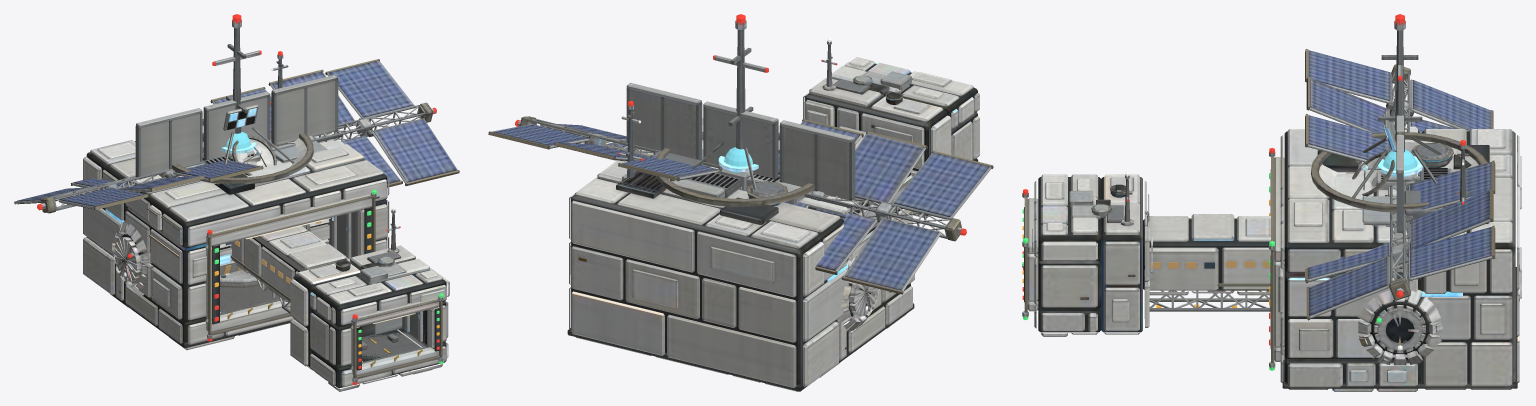
File: base_modules.glb
3 renders of one model, left to right at view 1: azimuth 30°, elevation 25°; view 2: azimuth 150°, elevation 25°; view 3: azimuth 270°, elevation 25°, orthographic. The views are drawn at different scales.
Parts seen in each view (by area): view 1: Mod_HangarBay, Mod_DockArm, Mod_SolarArray, Mod_Radiator, Mod_HabModule, Mod_CommArray, Mod_ShieldGenerator, Mod_TurretHeavy; view 2: Mod_HangarBay, Mod_SolarArray, Mod_Radiator, Mod_DockArm, Mod_ShieldGenerator, Mod_CommArray, Mod_HabModule; view 3: Mod_HangarBay, Mod_DockArm, Mod_SolarArray, Mod_HabModule, Mod_ShieldGenerator, Mod_CommArray, Mod_Radiator.
Part boxes in pixels (x1=…): Mod_HangarBay: x1=83, y1=51, x2=389, y2=350; Mod_DockArm: x1=229, y1=207, x2=449, y2=391; Mod_SolarArray: x1=14, y1=59, x2=459, y2=213; Mod_Radiator: x1=130, y1=75, x2=343, y2=192; Mod_HabModule: x1=112, y1=219, x2=329, y2=295; Mod_CommArray: x1=212, y1=14, x2=276, y2=175; Mod_ShieldGenerator: x1=172, y1=119, x2=313, y2=185; Mod_TurretHeavy: x1=220, y1=268, x2=264, y2=287; Mod_HangarBay: x1=567, y1=100, x2=914, y2=391; Mod_SolarArray: x1=488, y1=116, x2=993, y2=294; Mod_Radiator: x1=621, y1=83, x2=861, y2=213; Mod_DockArm: x1=803, y1=38, x2=979, y2=218; Mod_ShieldGenerator: x1=656, y1=132, x2=814, y2=207; Mod_CommArray: x1=713, y1=14, x2=768, y2=149; Mod_HabModule: x1=837, y1=254, x2=879, y2=331; Mod_HangarBay: x1=1269, y1=126, x2=1521, y2=391; Mod_DockArm: x1=1022, y1=172, x2=1270, y2=336; Mod_SolarArray: x1=1305, y1=49, x2=1495, y2=320; Mod_HabModule: x1=1357, y1=289, x2=1442, y2=365; Mod_ShieldGenerator: x1=1311, y1=132, x2=1487, y2=212; Mod_CommArray: x1=1352, y1=14, x2=1422, y2=196; Mod_Radiator: x1=1391, y1=60, x2=1409, y2=244.
Size of the model in its own units: 51.12 by 33.93 by 47.59.
3 materials, 2 textured.
